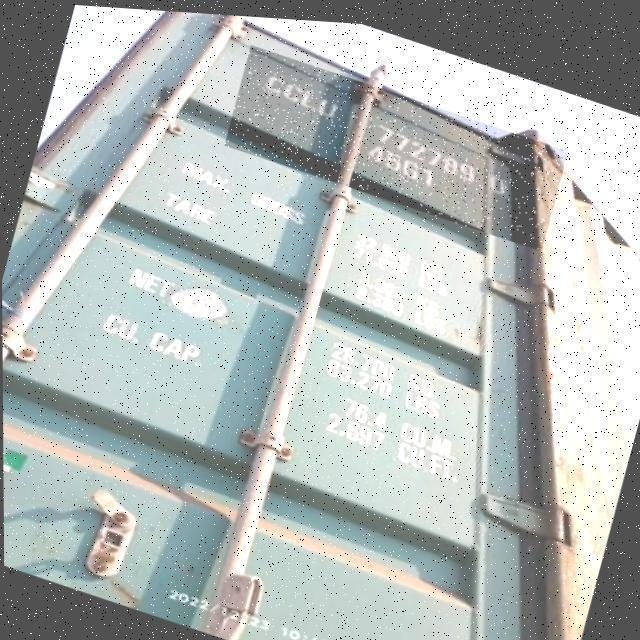ISO: (360, 138, 440, 202)
container_number: (266, 67, 523, 198)
